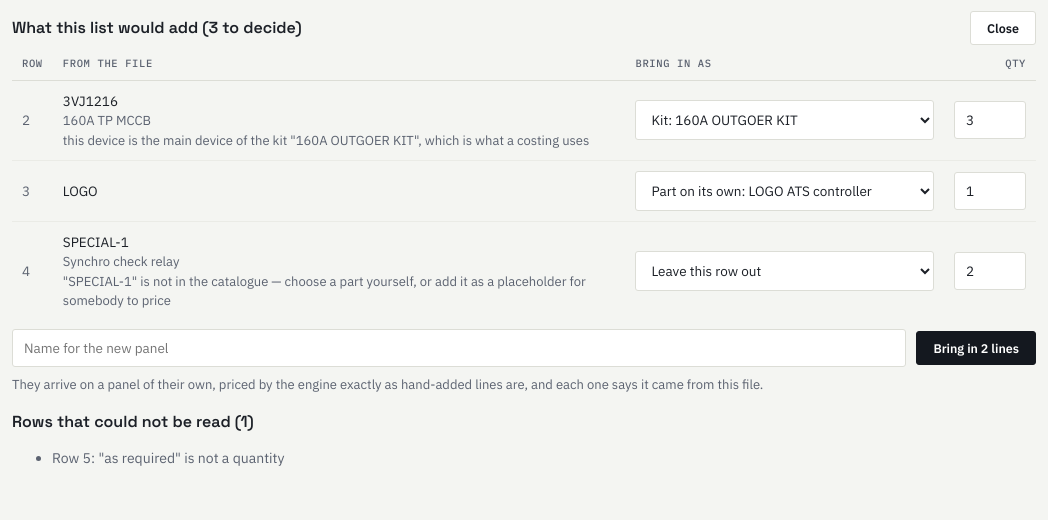
it: the parts-list review › says what happened, including parts that only reached the library
The width and height of the screenshot is (1048, 520).
Select "Add it to the library as a placeholder to price later" in the dropdown named "What to do with SPECIAL-1" at [785, 271], box [636,251,934,291]
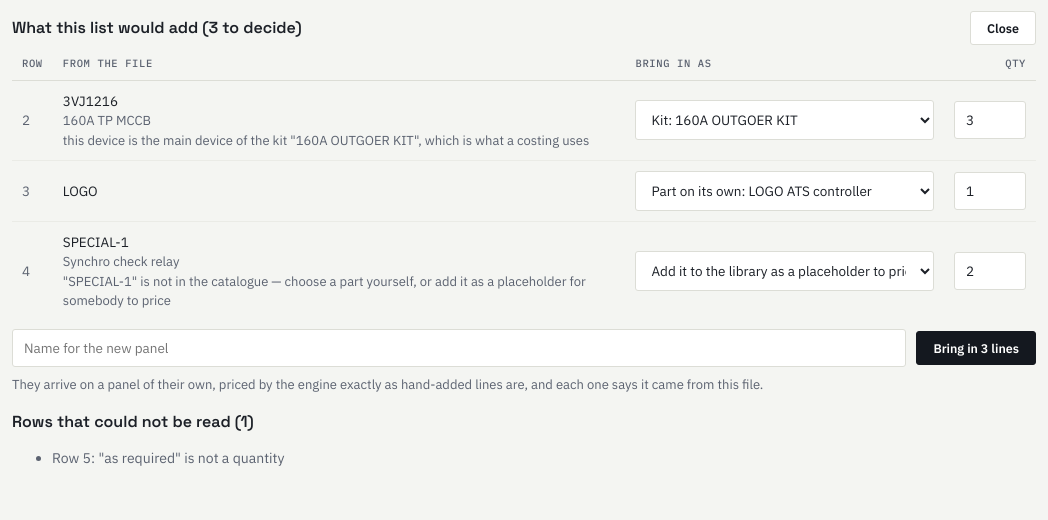
Click the button "Bring in 3 lines" at [976, 348], box [916,331,1036,365]
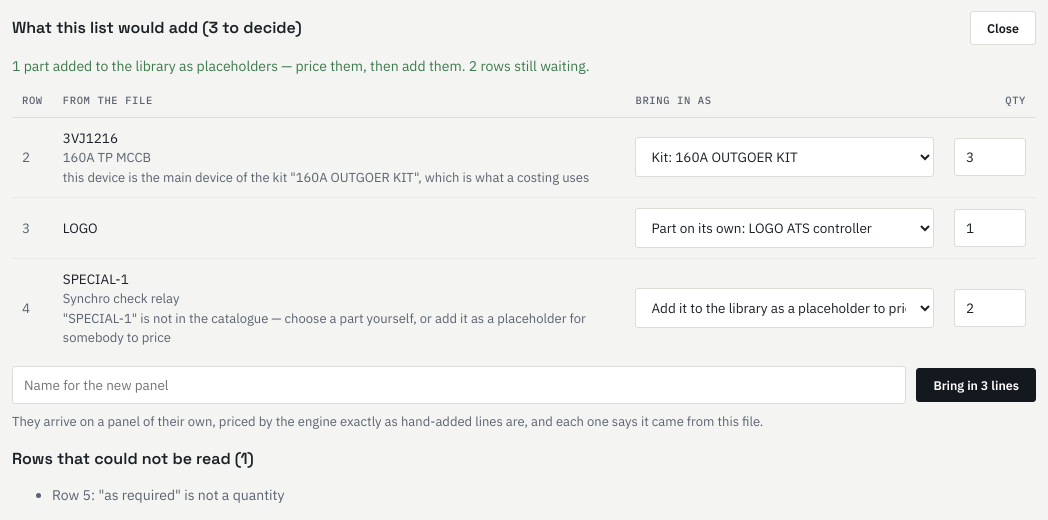
Check: the text "2 rows still waiting" is shown, box [12,57,590,75]
